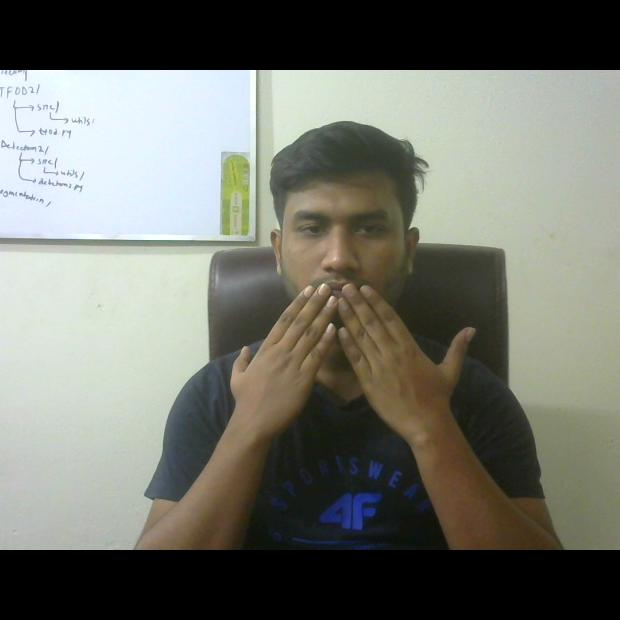D: (220, 276, 494, 439)
